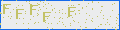F: (43, 12, 52, 23), (68, 7, 76, 17), (30, 5, 38, 15), (16, 9, 24, 19), (3, 4, 11, 14)
